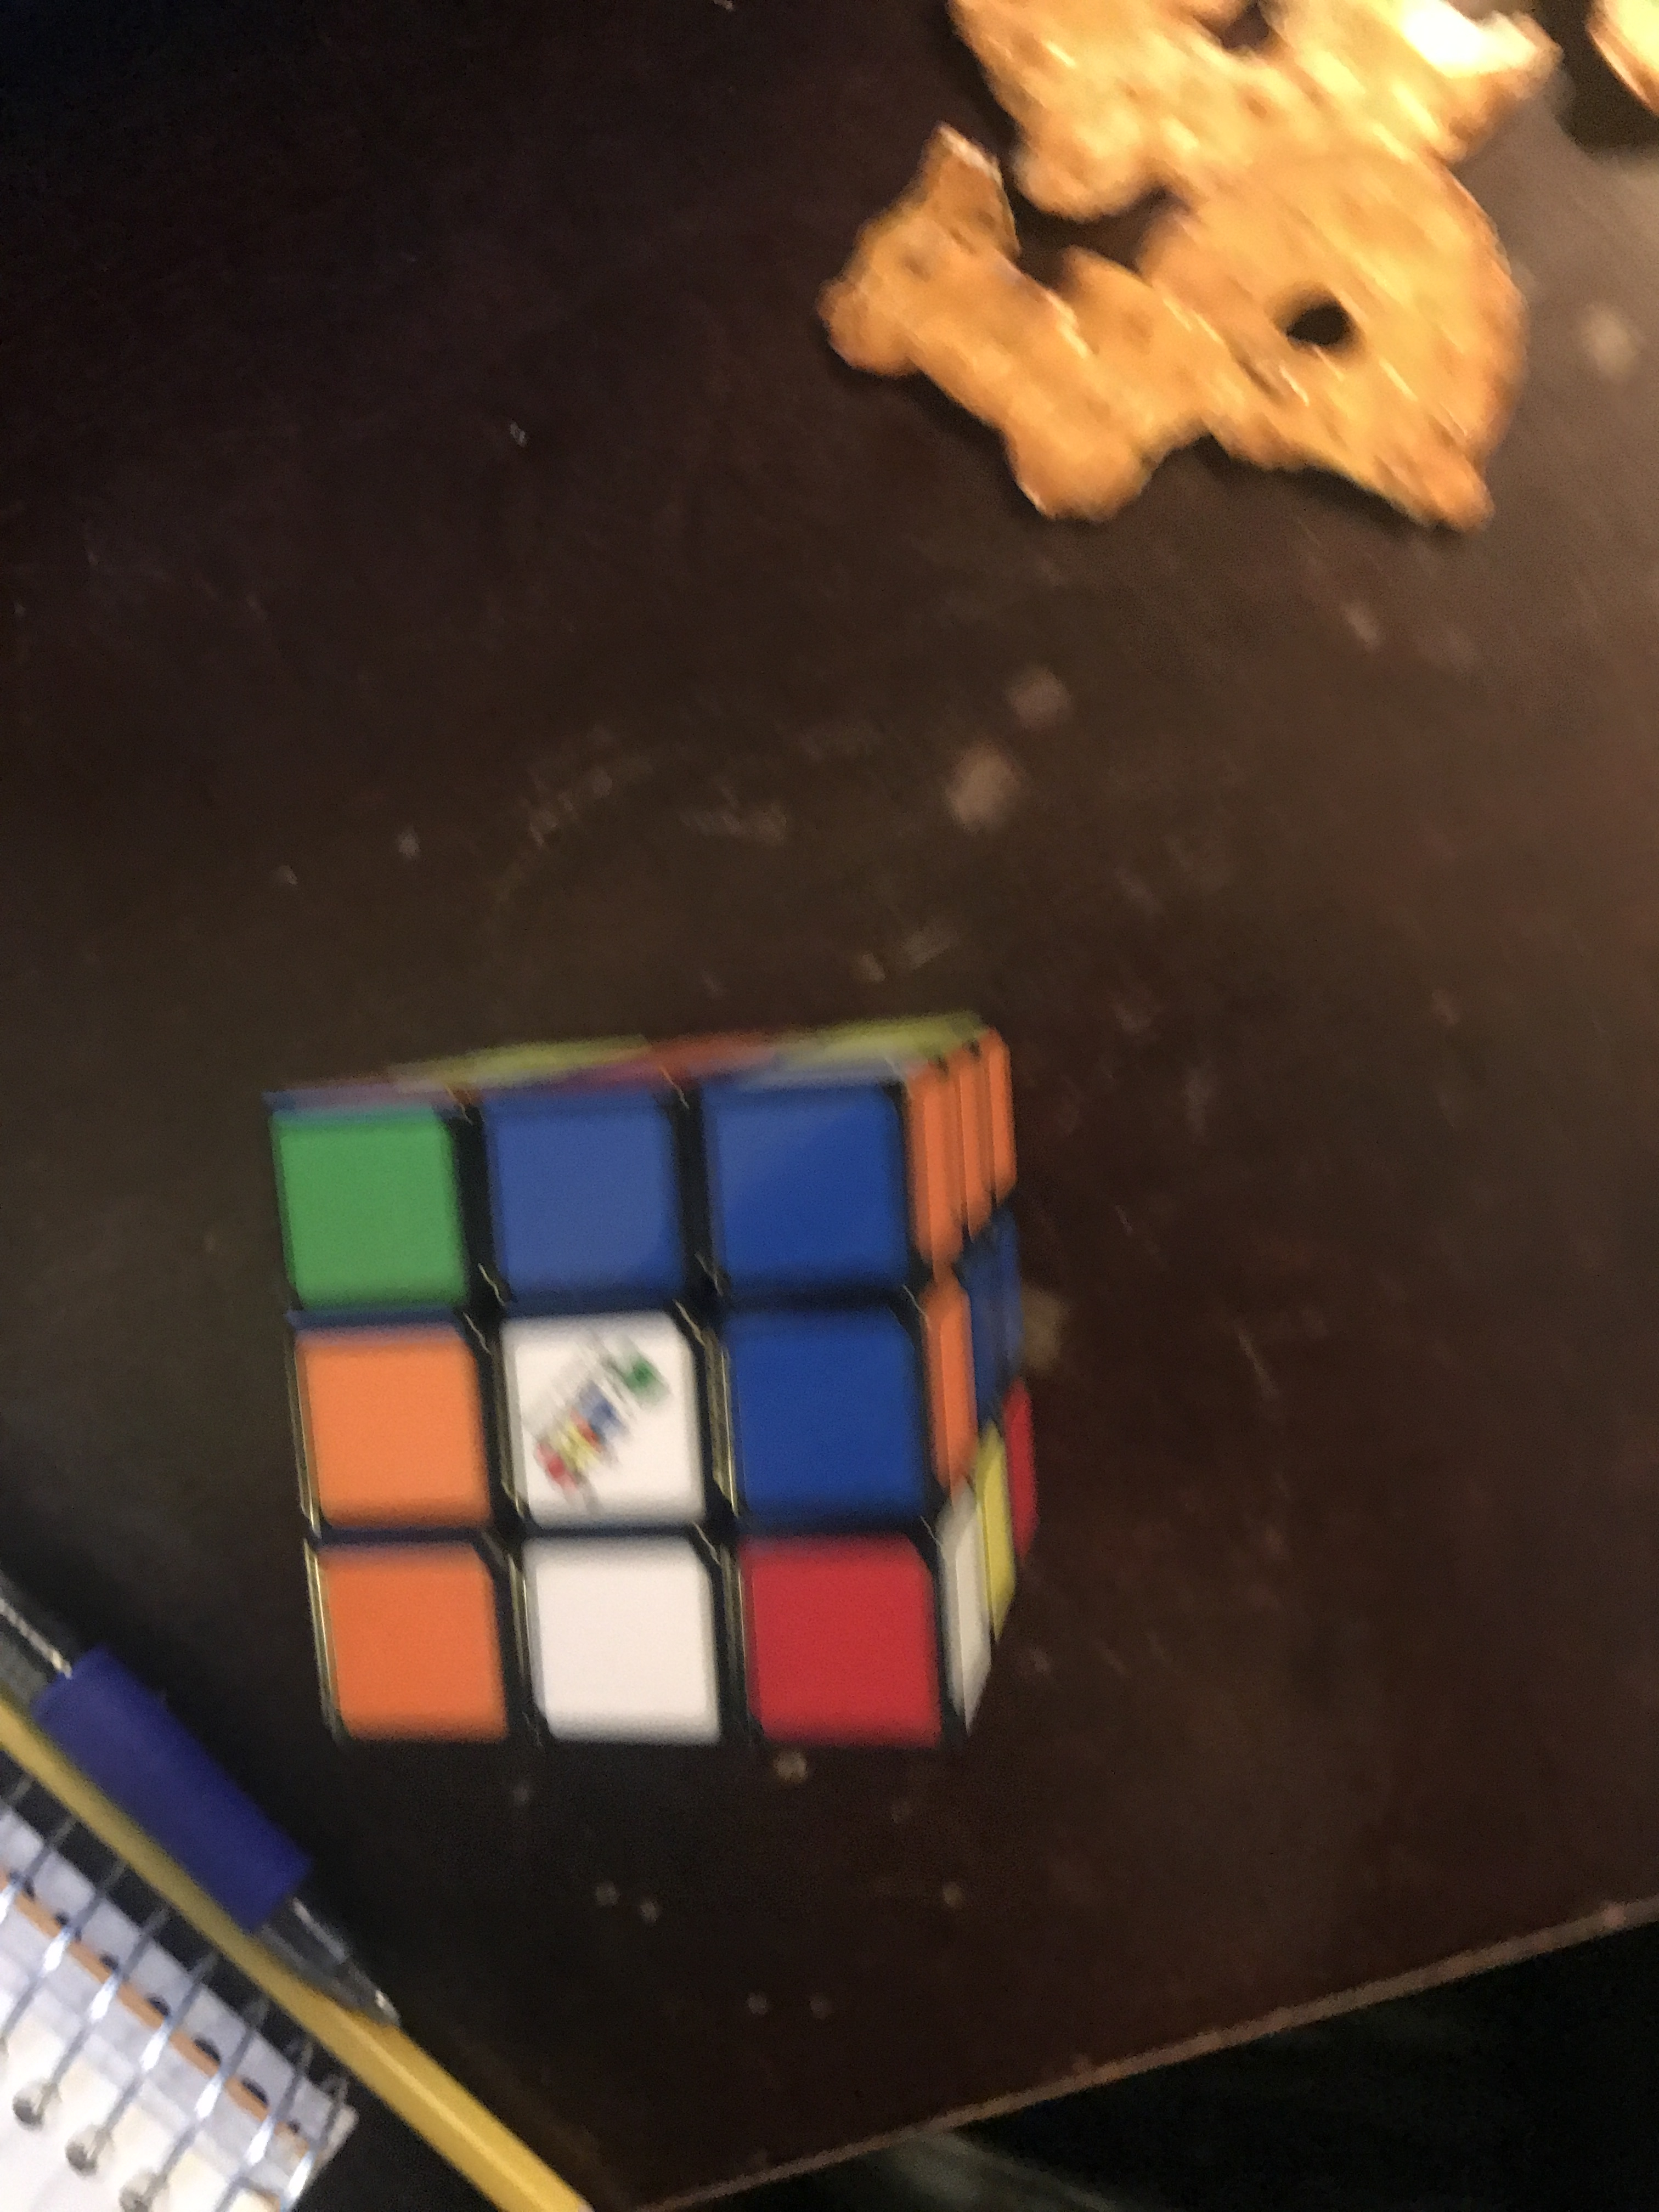rubiks: (253, 1010, 1056, 1764)
